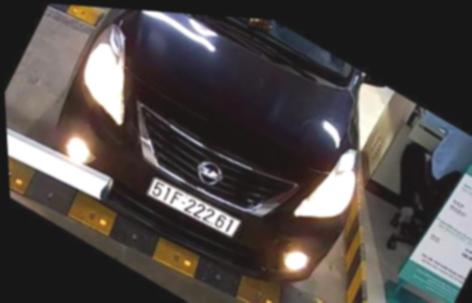License_Plate: (144, 172, 244, 246)
